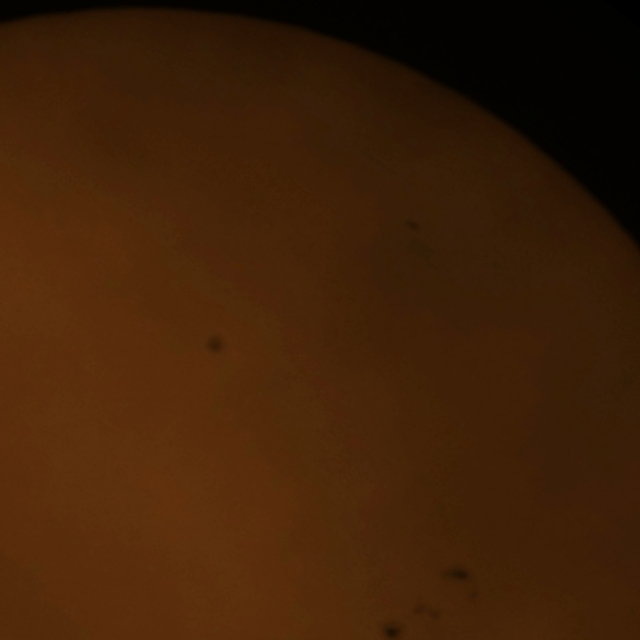sunspot: (438, 556, 484, 593), (399, 211, 438, 247), (406, 593, 441, 626), (379, 619, 412, 640), (204, 332, 227, 358)
